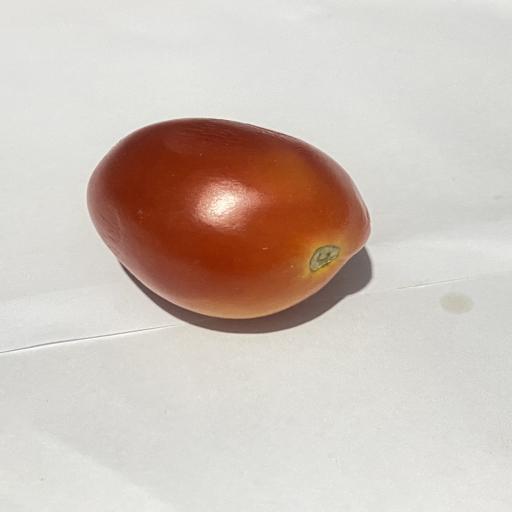ripe: (88, 119, 369, 318)
